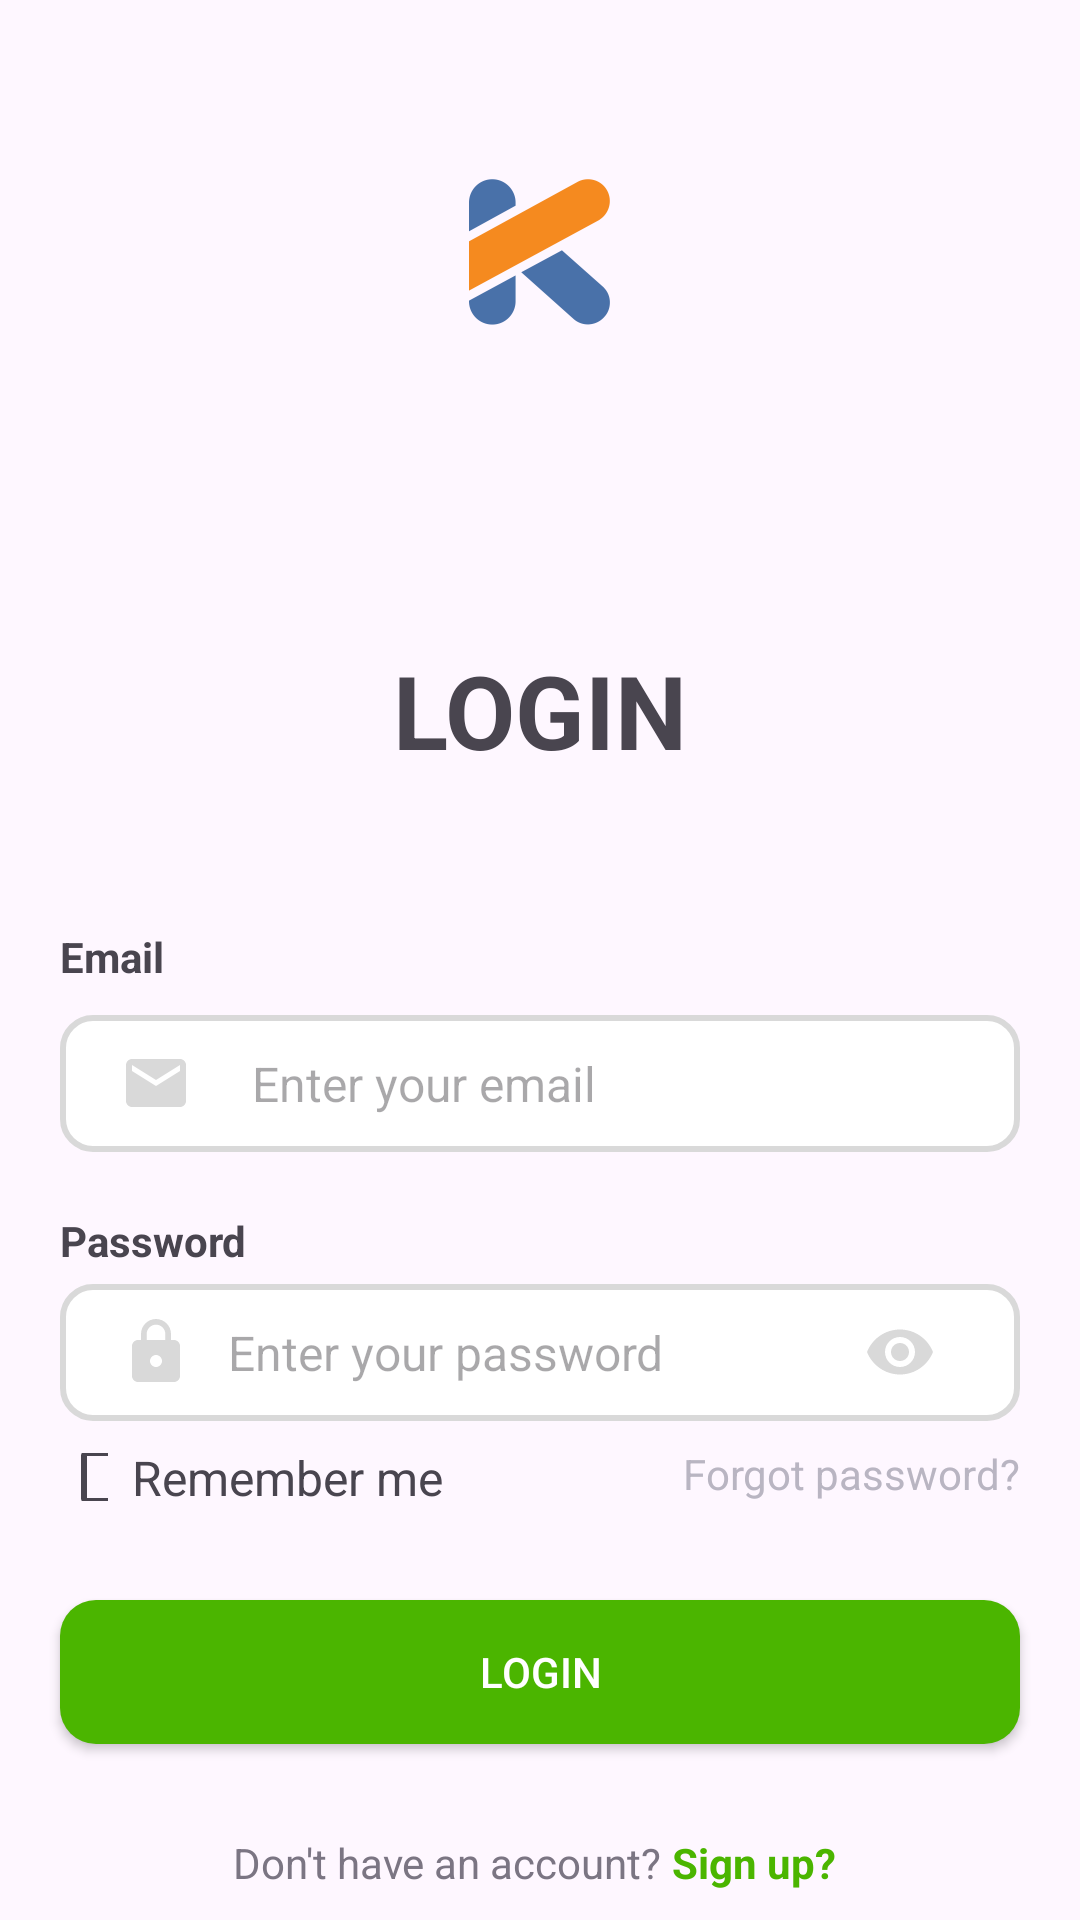

Where icons sit on this 1080px×1920px app screen, as bbox=[x1, y1, x2, y2]:
Eye Icon: bbox=[867, 1330, 933, 1374]
